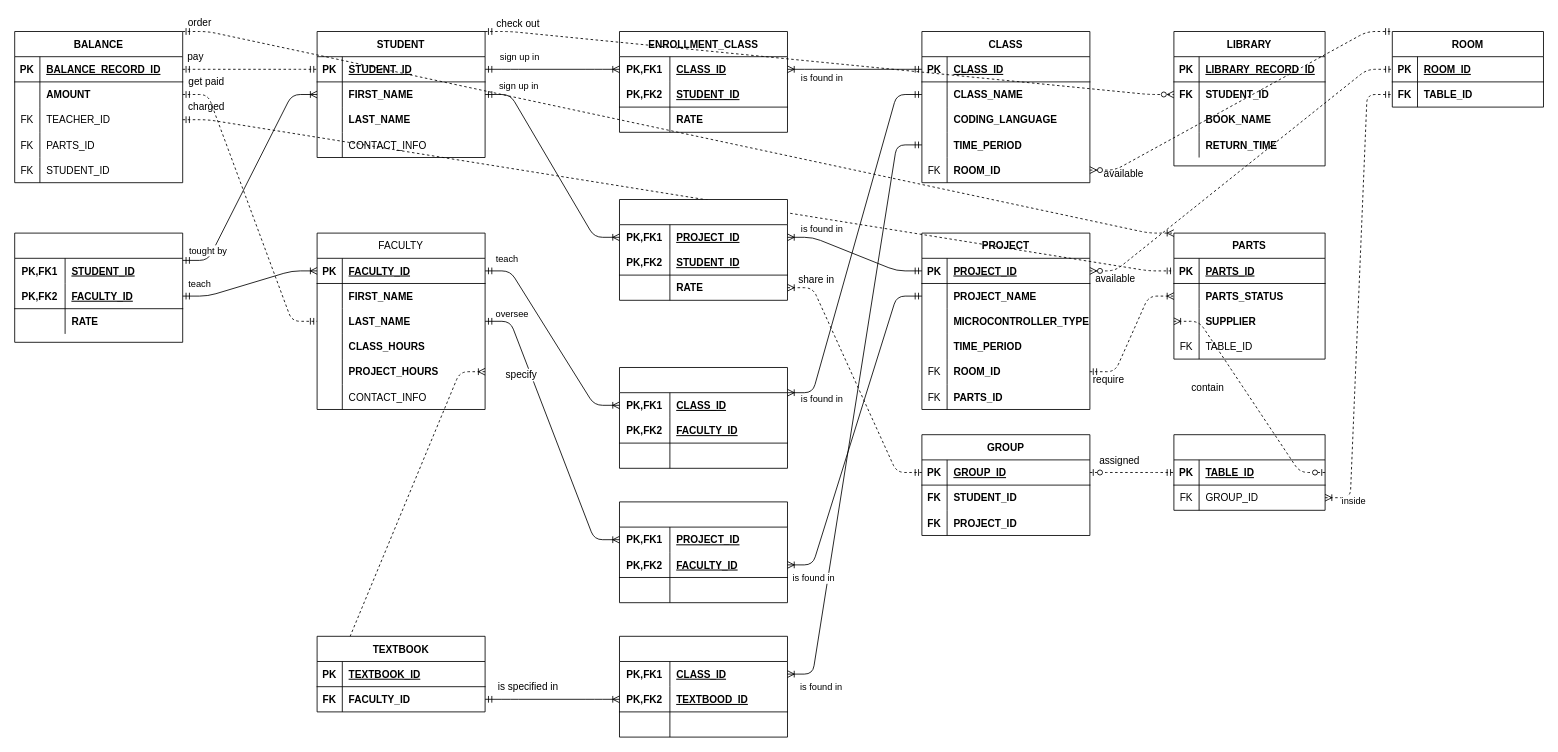
The diagram is 1558 pixels wide and 752 high, and some of its shapes have lost their labels. The shapes that lost their labels are listed below. From the top down, each one's box as (x1, y1, x2, y2) in pixels, then its label:
(619, 199, 788, 300): ENROLLMENT_PROJECT
(14, 232, 183, 342): RATE_MY_PROF
(619, 367, 788, 468): INSTRUCTION_CLASS
(1173, 434, 1325, 510): TABLE (PLASTIC)
(619, 501, 788, 603): INSTRUCTION_PROJECT
(619, 635, 788, 737): CLASS_TEXTBOOKS
